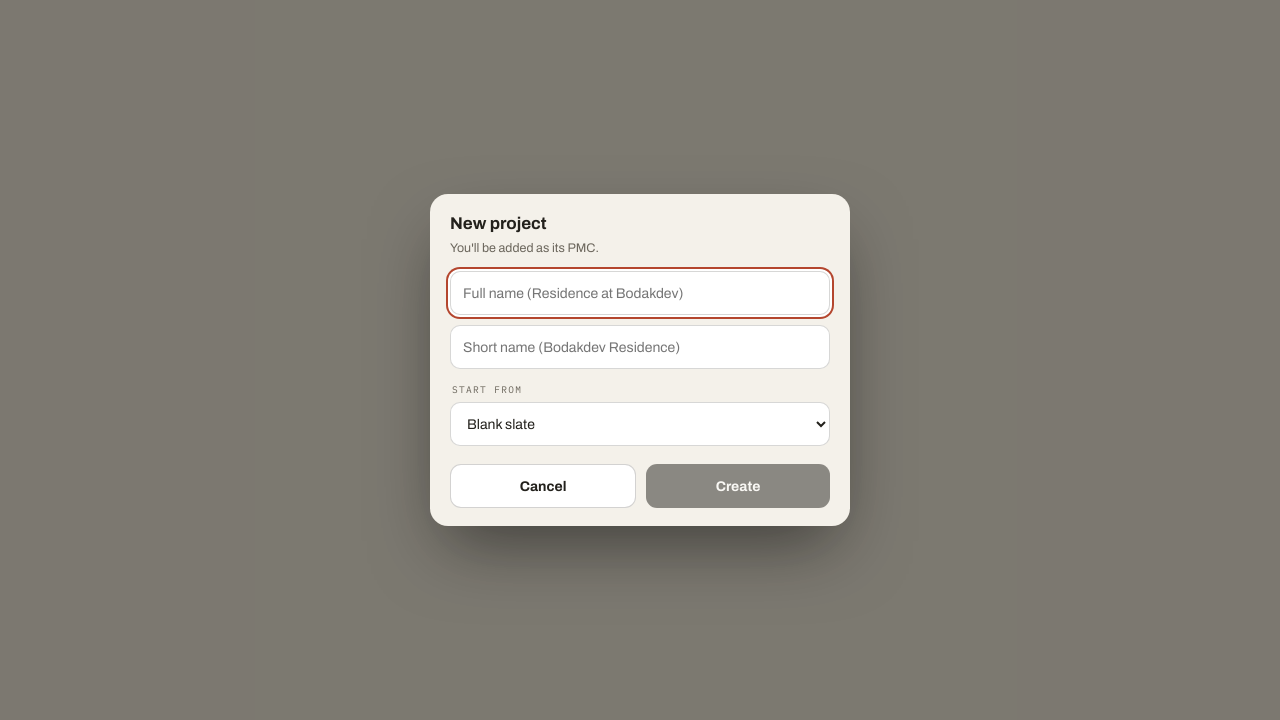
Test: cross-tab project create — one reservation at a time › a cleared record is seen at the next sync even without a storage event: a reopened dialog and "Try again" both read it
Type "Residence at Thaltej" into the field with placeholder "Full name (Residence at Bodakdev)" at (640, 293), box [450,271,830,315]
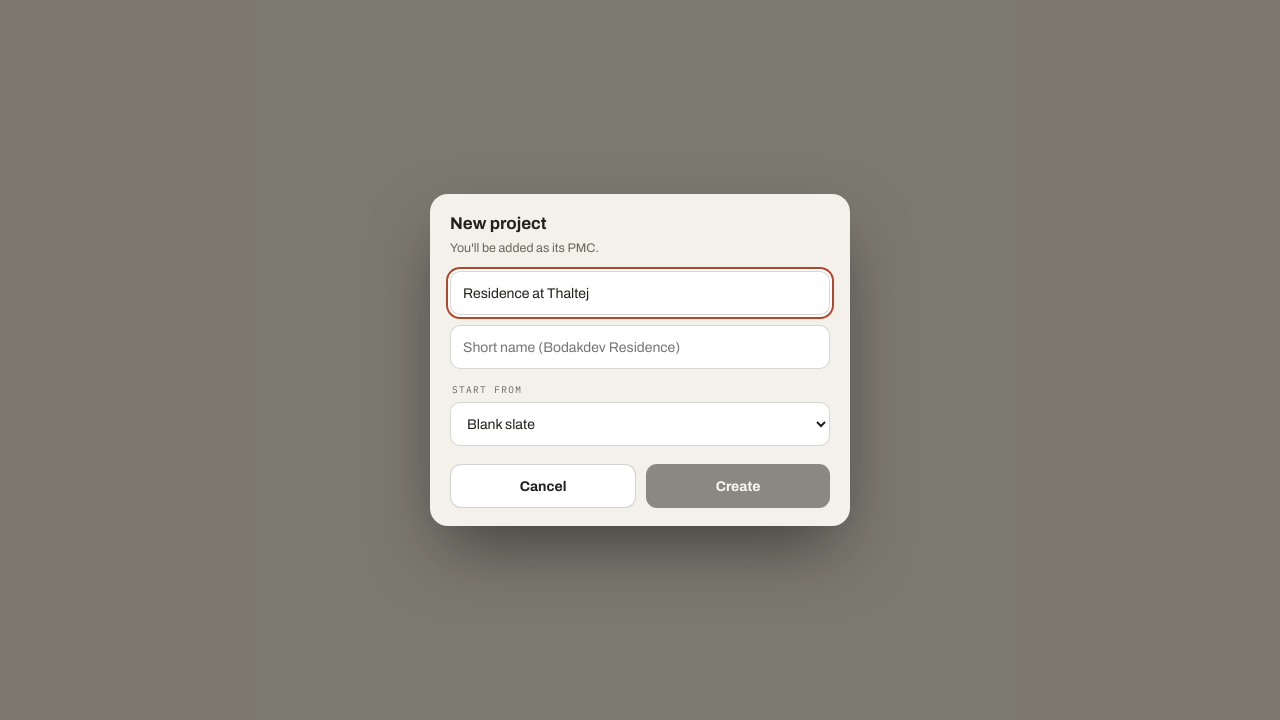
Type "Thaltej" into the field with placeholder "Short name (Bodakdev Residence)" at (640, 347), box [450,325,830,369]
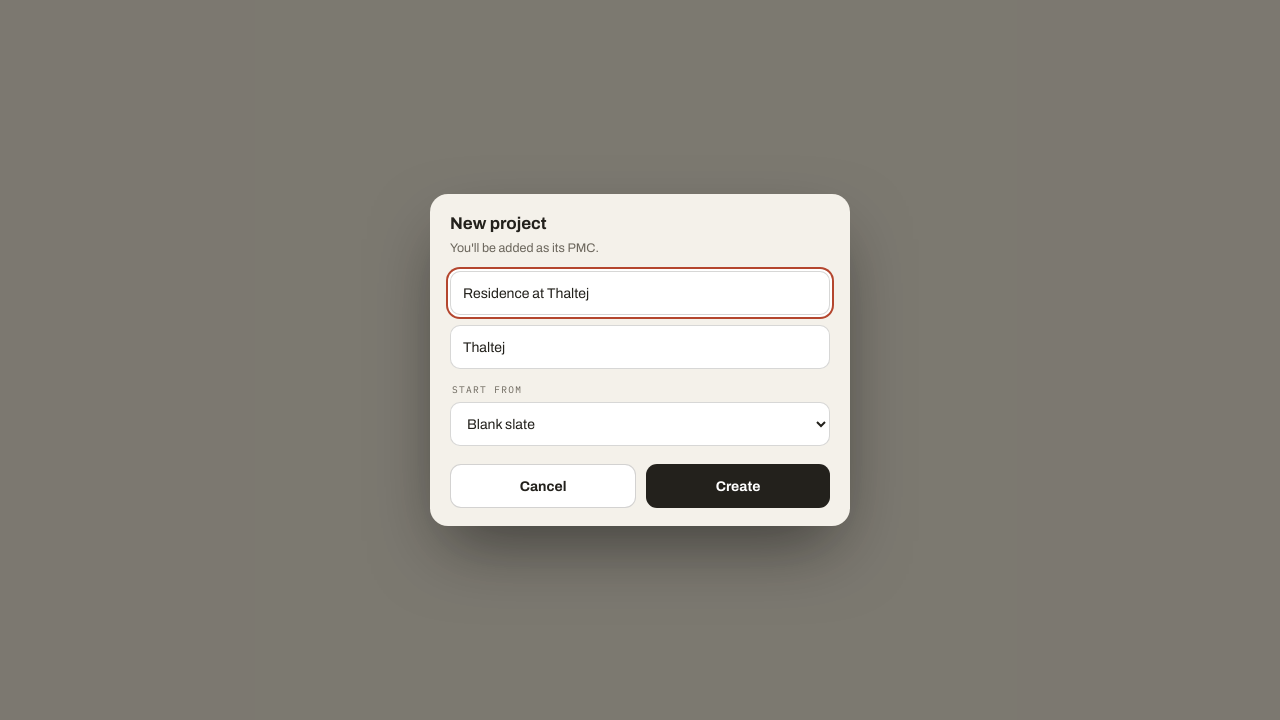
Now the button "Create" is enabled, box [646,464,830,508]
